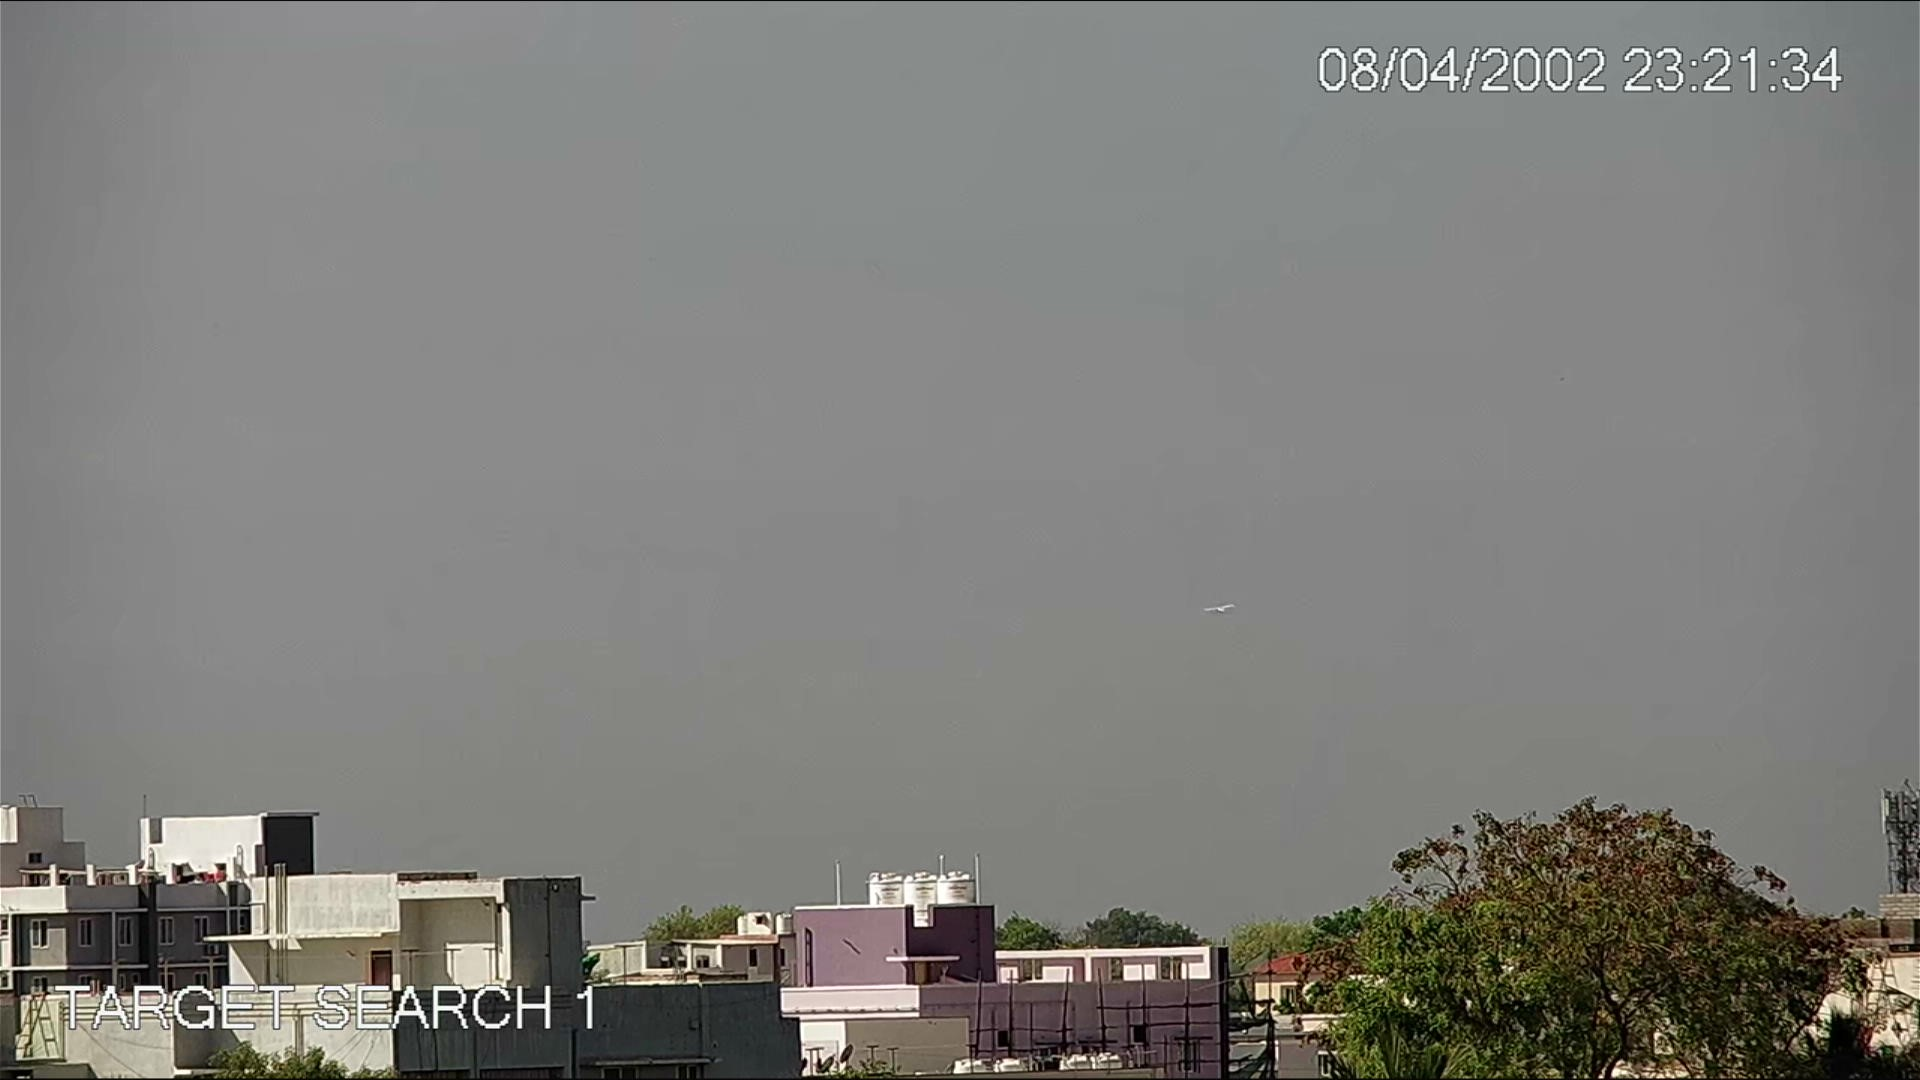SU_30: (1200, 600, 1238, 622)
